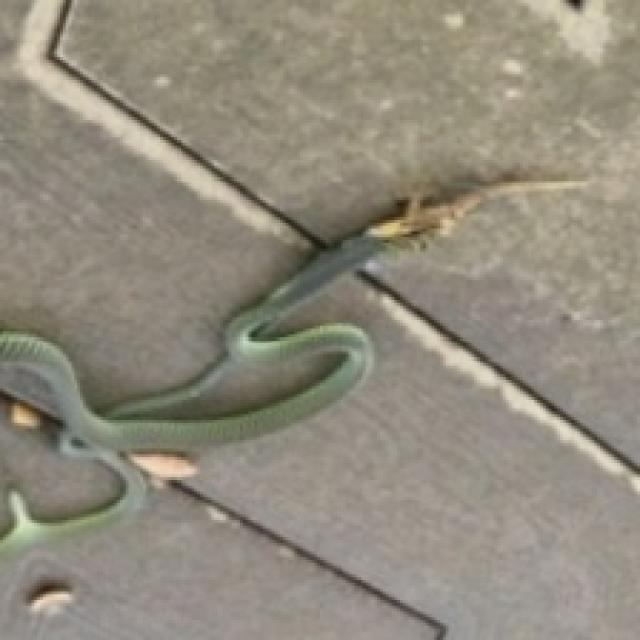paradise tree snake: (0, 277, 623, 637)
